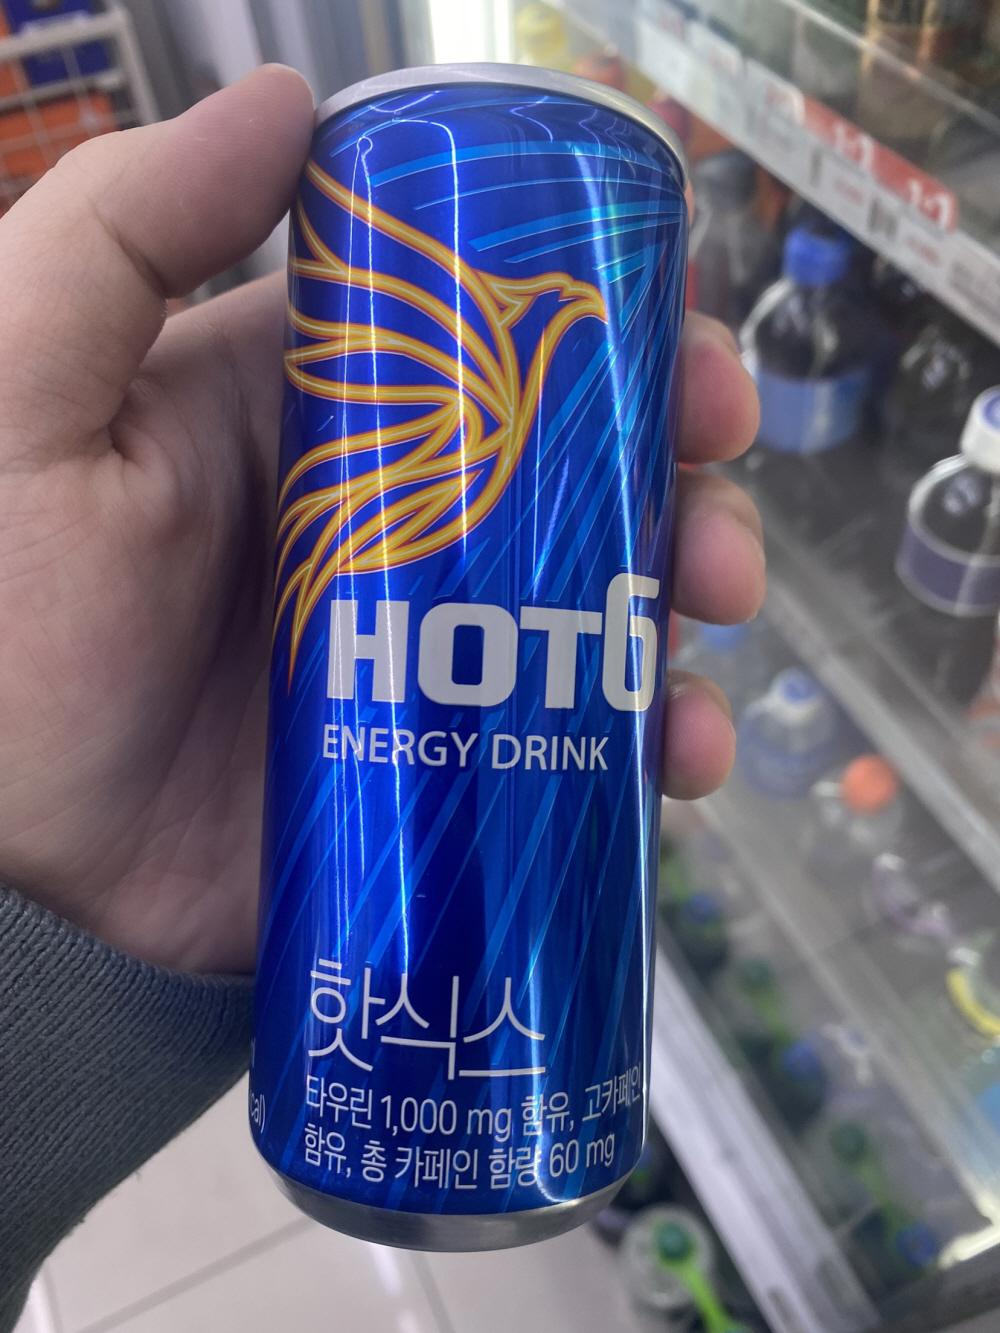hotsix_org: (271, 67, 686, 1213)
